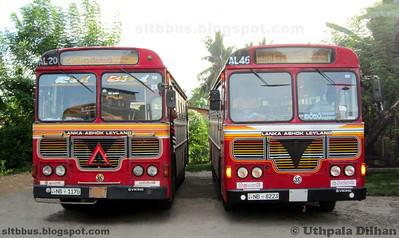bus: (203, 42, 366, 217), (29, 43, 191, 216)
